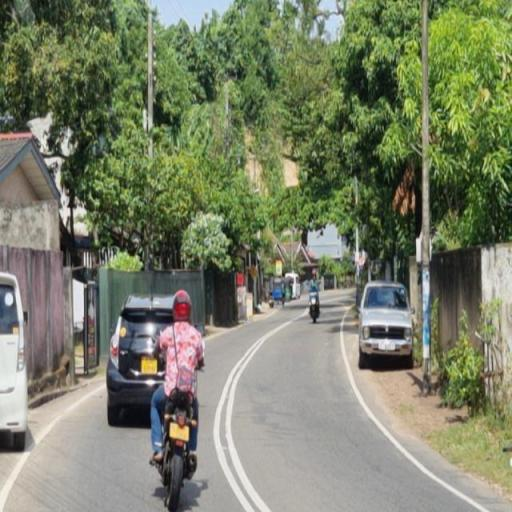double_white_line: (214, 325, 272, 512)
